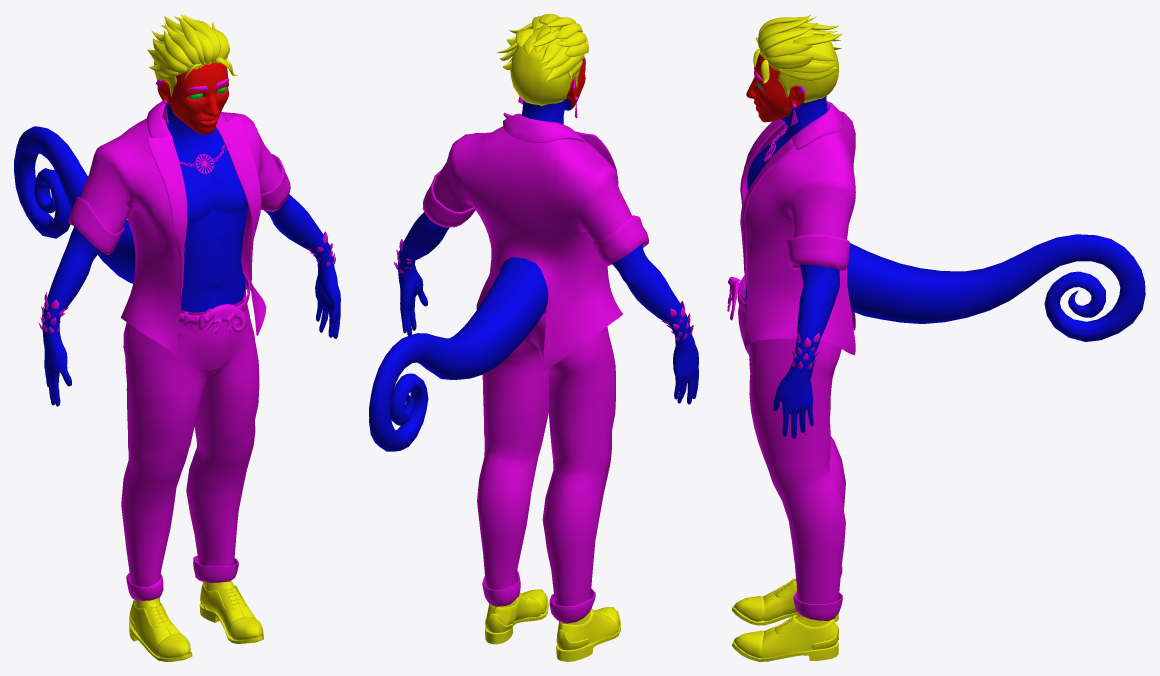
The model's file is FF_Scale.fbx.
3 renders of one model, left to right at view 1: azimuth 30°, elevation 25°; view 2: azimuth 150°, elevation 25°; view 3: azimuth 270°, elevation 25°, orthographic.
Parts seen in each view (by area): view 1: echo_rig_V3:hair2_lp; view 2: echo_rig_V3:hair2_lp; view 3: echo_rig_V3:hair2_lp.
Boxes of the visible parts, left/top/right/bottom form: echo_rig_V3:hair2_lp: left=14, top=14, right=340, bottom=661; echo_rig_V3:hair2_lp: left=369, top=14, right=698, bottom=661; echo_rig_V3:hair2_lp: left=727, top=14, right=1145, bottom=661.
Size of the model in its own units: 4.89 by 9.9 by 6.04.
